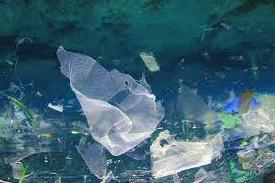Trash: (53, 38, 171, 160)
